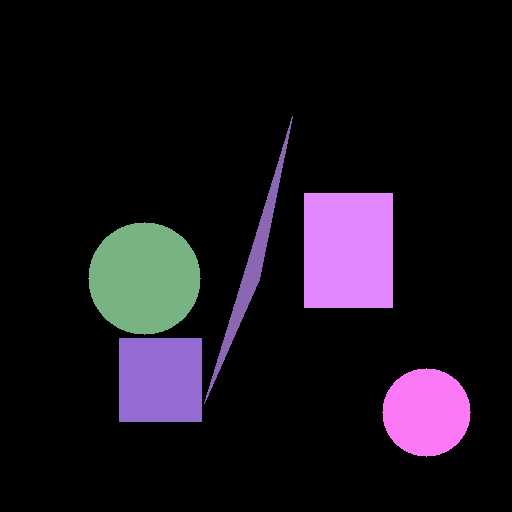circle: (88, 222, 200, 334), (382, 368, 470, 456)
rectangle: (304, 193, 392, 307)
square: (119, 338, 201, 421)
triangle: (204, 116, 292, 403)
